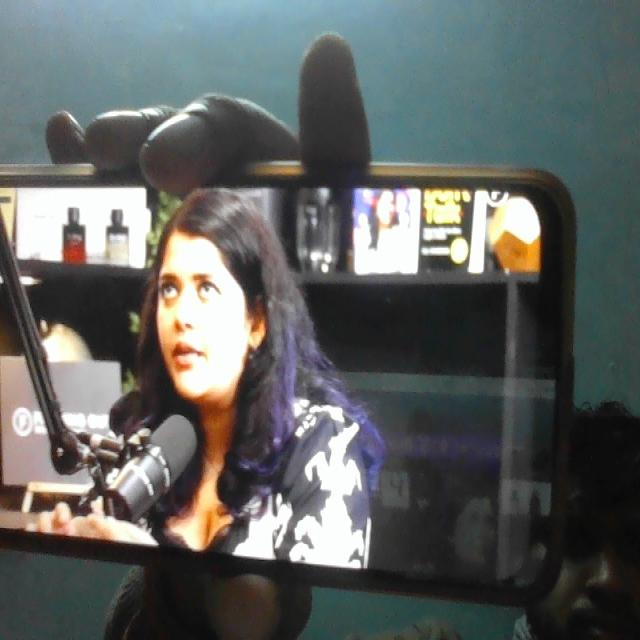fake: (141, 157, 275, 411)
